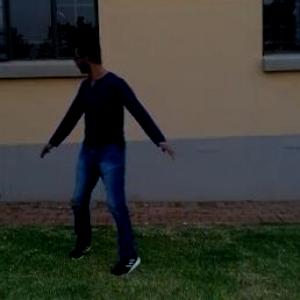land: (34, 23, 172, 263)
